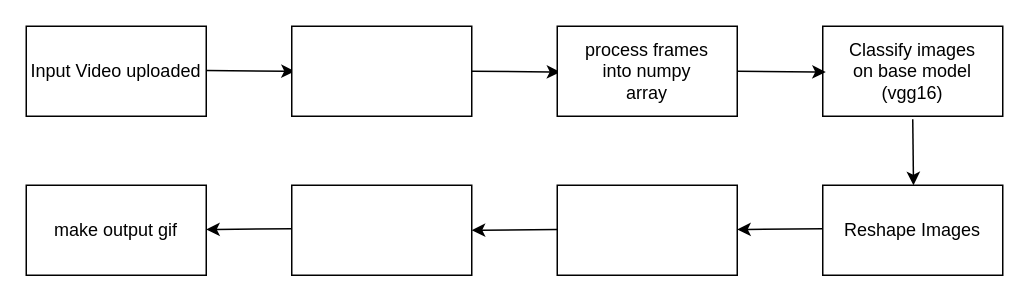
Image size: 1029x302. Some labels were removed from this diagram. The centre of each missing label's shape, as x and y in pixels:
Label frames with predictions: the point at 381,229
Make Frames: the point at 381,70
Make Predictions: the point at 646,229
